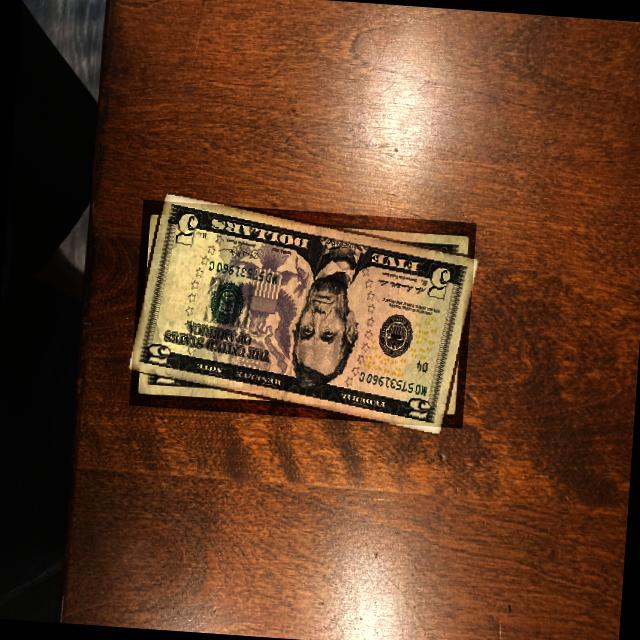five: (129, 200, 477, 428)
